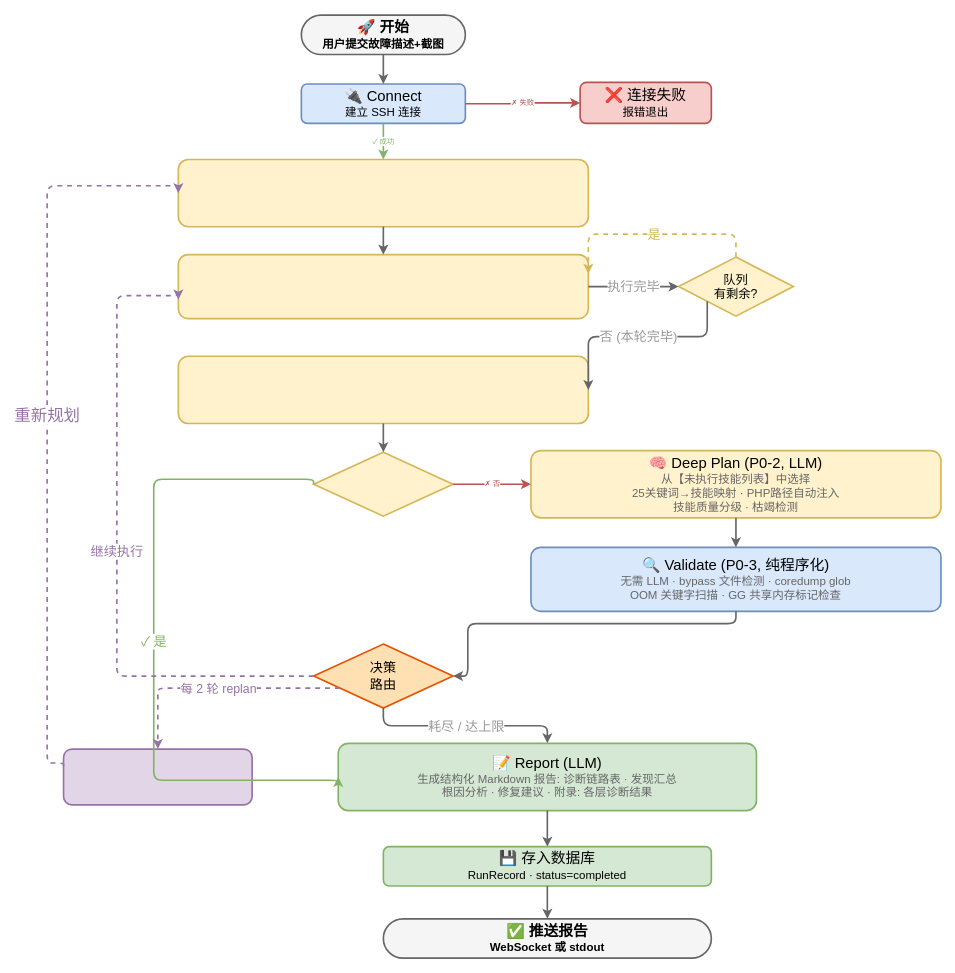
Image size: 955x973. Some labels were removed from this diagram. Each missing label, with the centre of its shape:
⚡ Execute Skill (循环) 从技能队列取出一个 → SSH 执行诊断命令 收集 stdout / stderr / exit_code: point 383,286
根因 确定?: point 382,484
📊 Evidence (P0-1, LLM) 评估本轮所有结果: 哪些假设被支持/否定? 还有哪些关键未知? 根因是否可以确定?: point 383,389
🔄 Replan (LLM) 全局重新评估 最多触发 2 次 · 每2轮replan: point 157,776
🧠 Plan (LLM) 分析错误描述 + 上传文件内容 从 技能中精选 4-6 个 保证跨 Web/Python/Engine/系统覆盖: point 383,192
